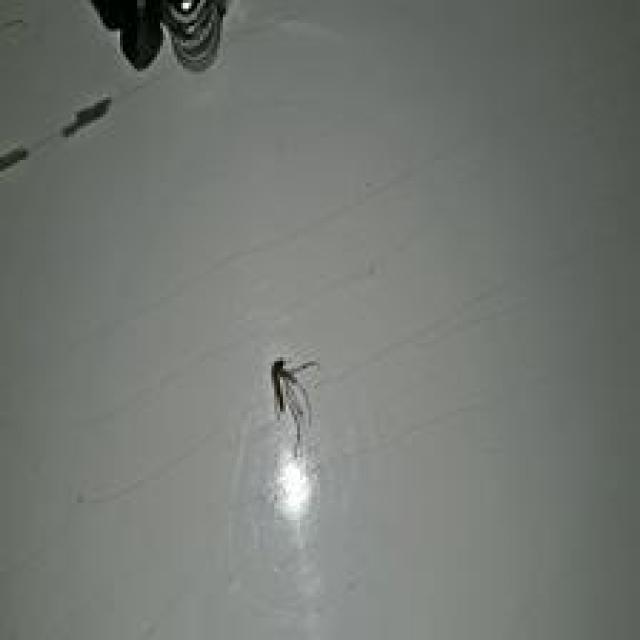Culex: (269, 356, 320, 458)
